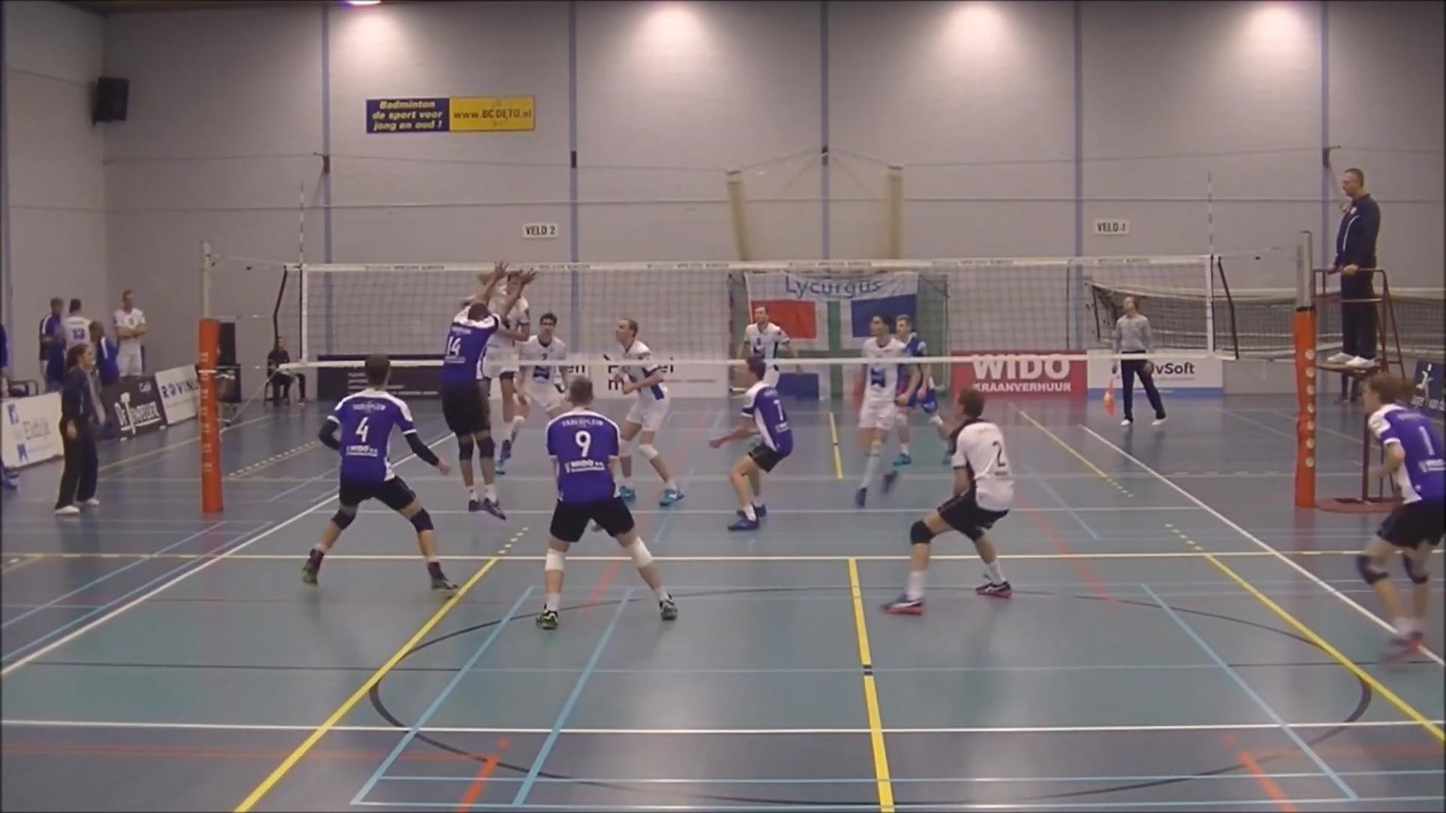attacco: (473, 256, 535, 482)
muro: (425, 260, 537, 517)
